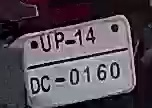0: (67, 67, 82, 89), (109, 60, 123, 82)
1: (82, 65, 96, 87), (74, 27, 86, 48)
4: (85, 26, 98, 47)
6: (92, 61, 108, 83)
C: (40, 74, 52, 92)
D: (29, 76, 41, 96)
P: (54, 32, 65, 52)
U: (38, 34, 53, 54)
